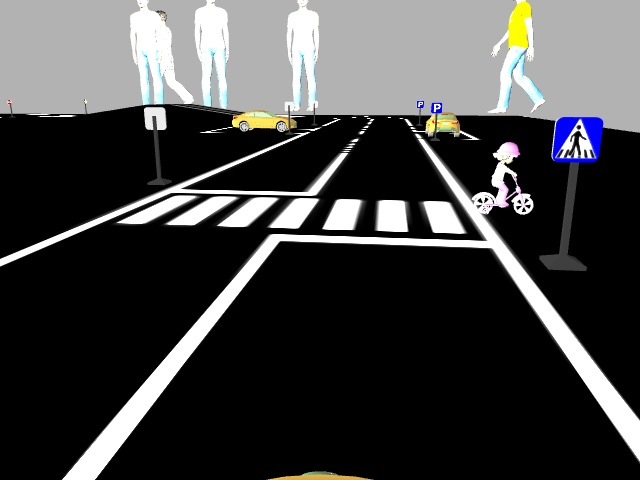Crosswalk: (552, 116, 602, 163)
Parking: (428, 101, 441, 113), (414, 98, 425, 109)
Pedestrian: (463, 141, 538, 217)
